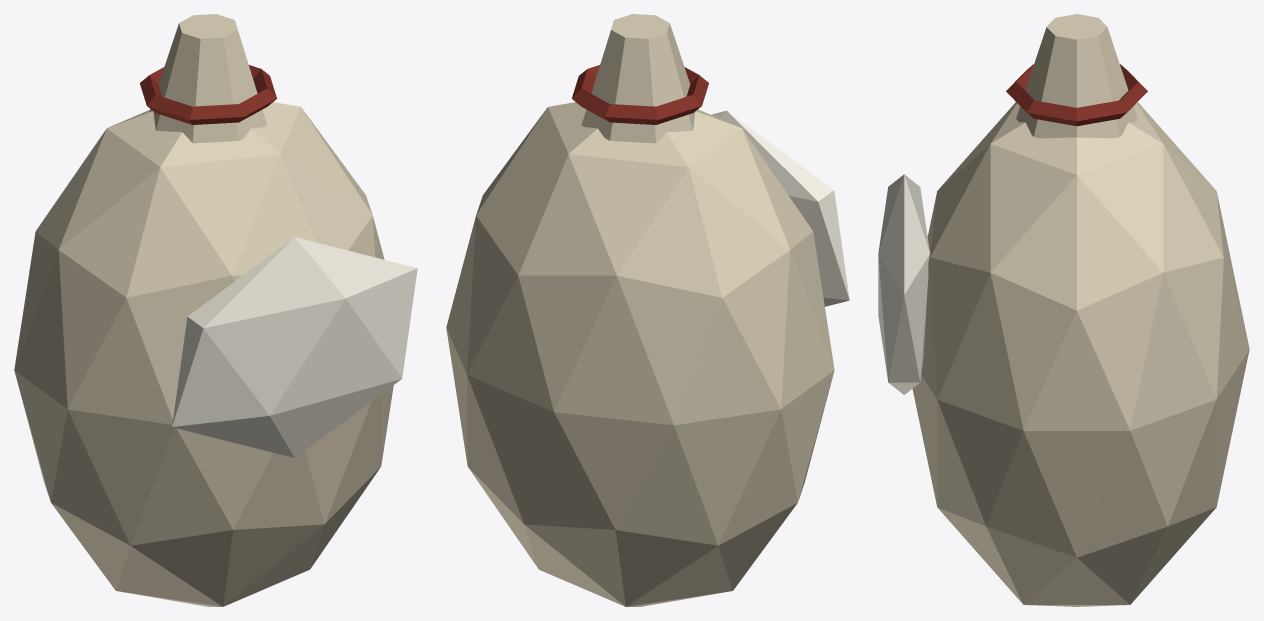
Rendered from flour_sack.glb.
3 views of the same model, side by side, from view 1: azimuth 30°, elevation 25°; view 2: azimuth 150°, elevation 25°; view 3: azimuth 270°, elevation 25° (orthographic).
Visible parts, largest first — view 1: flour_sack; view 2: flour_sack; view 3: flour_sack.
Part boxes in pixels (x1=…): flour_sack: x1=14, y1=14, x2=417, y2=606; flour_sack: x1=446, y1=14, x2=849, y2=606; flour_sack: x1=878, y1=14, x2=1249, y2=606.
Size of the model in its own units: 0.3804 by 0.63 by 0.3655.
